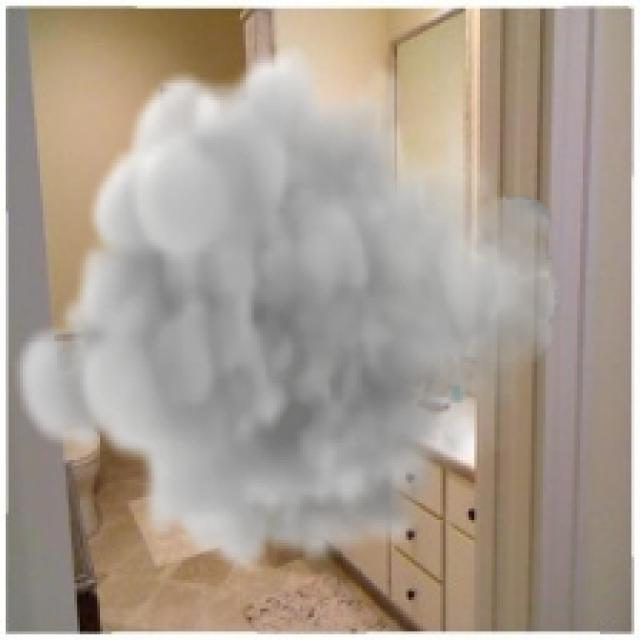smoke: (8, 43, 563, 574)
